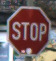stopsign: (6, 7, 52, 56)
